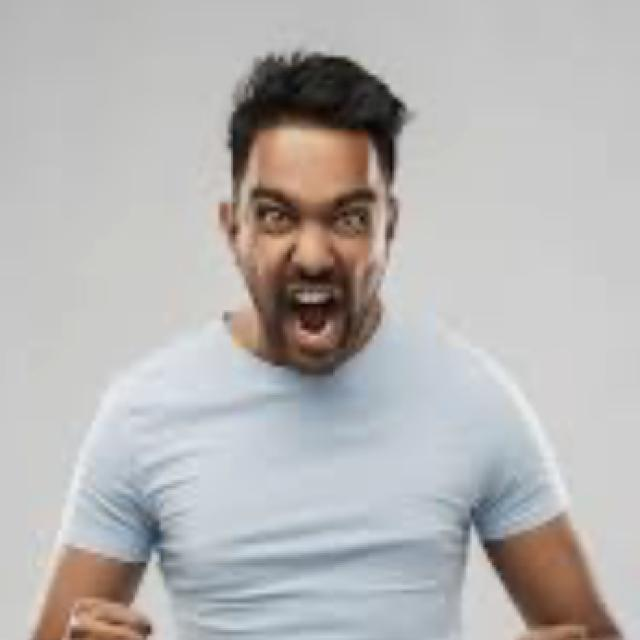Angry: (142, 32, 398, 369)
